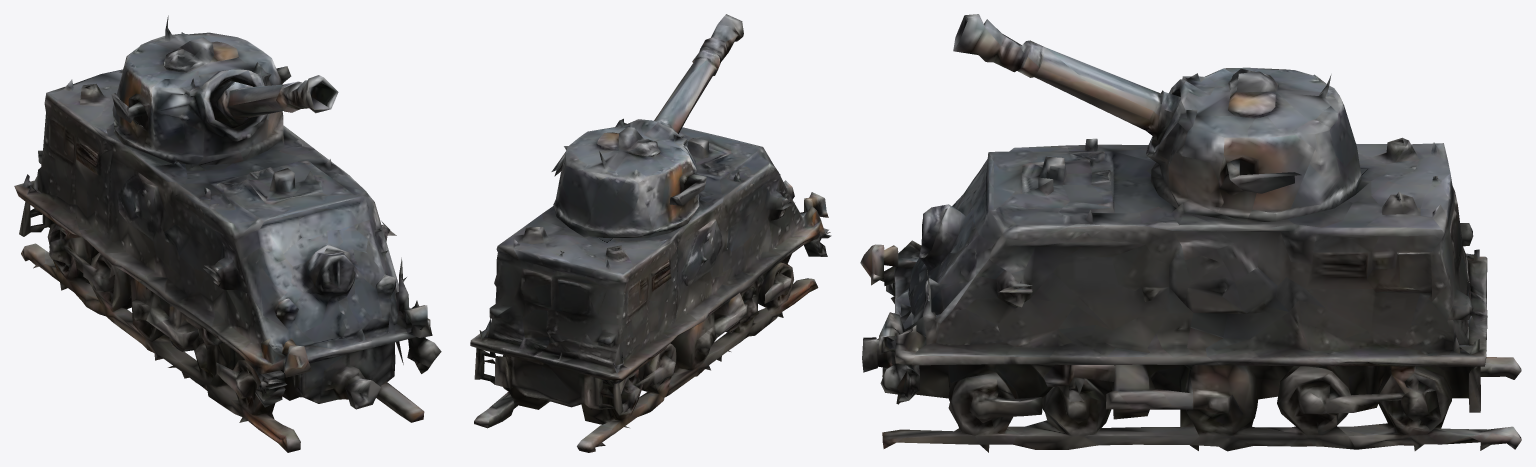
The model's file is p8train.glb.
The picture shows the model from 3 angles, left to right: view 1: azimuth 30°, elevation 25°; view 2: azimuth 150°, elevation 25°; view 3: azimuth 270°, elevation 25°; orthographic projection. The views are drawn at different scales.
Visible parts, largest first — view 1: tripo_node_695401e0-8264-4830-add2-79eab571836f; view 2: tripo_node_695401e0-8264-4830-add2-79eab571836f; view 3: tripo_node_695401e0-8264-4830-add2-79eab571836f.
Part boxes in pixels (x1,y1,x2,y2): tripo_node_695401e0-8264-4830-add2-79eab571836f: [14, 15, 441, 452]; tripo_node_695401e0-8264-4830-add2-79eab571836f: [470, 14, 831, 452]; tripo_node_695401e0-8264-4830-add2-79eab571836f: [860, 14, 1521, 452].
Bounding box in the file's own units: 0.373 × 0.6633 × 0.9994.
Materials: 1 (1 with a texture image).
